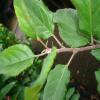Apple leaf: (11, 1, 61, 41), (50, 7, 94, 50), (0, 42, 35, 83), (40, 61, 76, 99)
